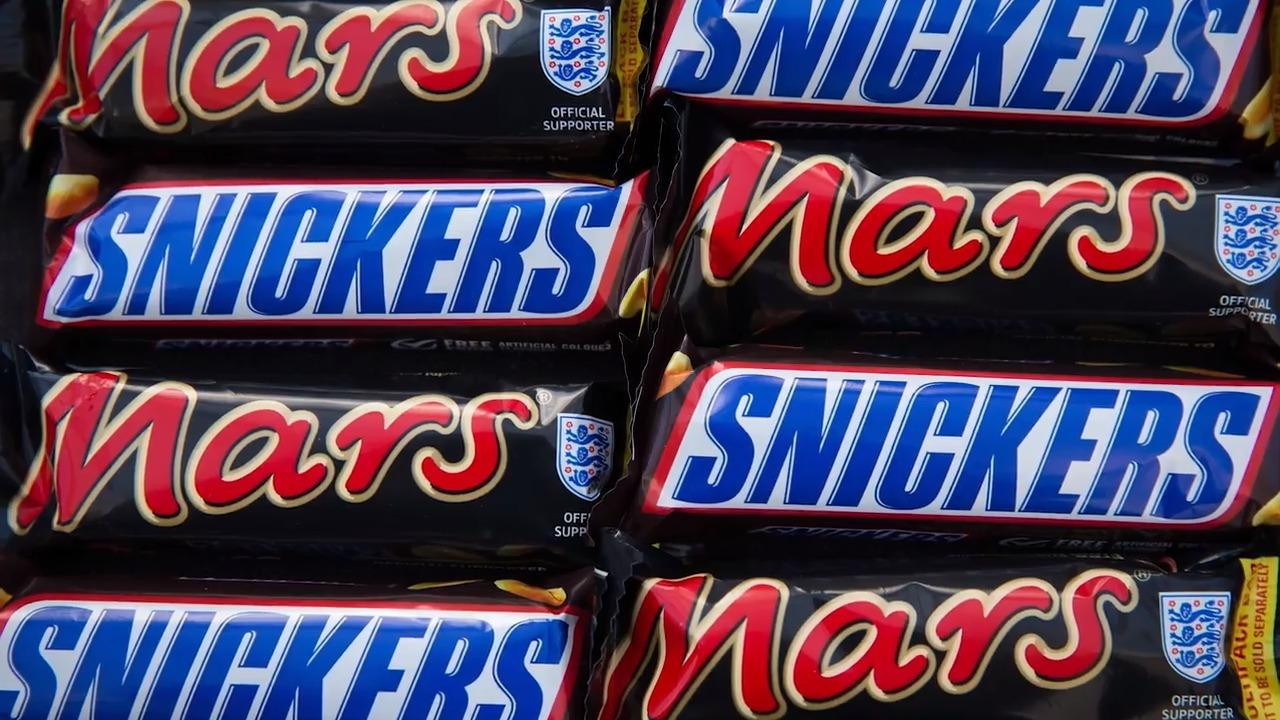snickers: (670, 372, 1263, 519), (670, 377, 1263, 519), (47, 181, 619, 315), (659, 2, 1251, 115), (2, 602, 570, 718), (2, 611, 559, 718)
